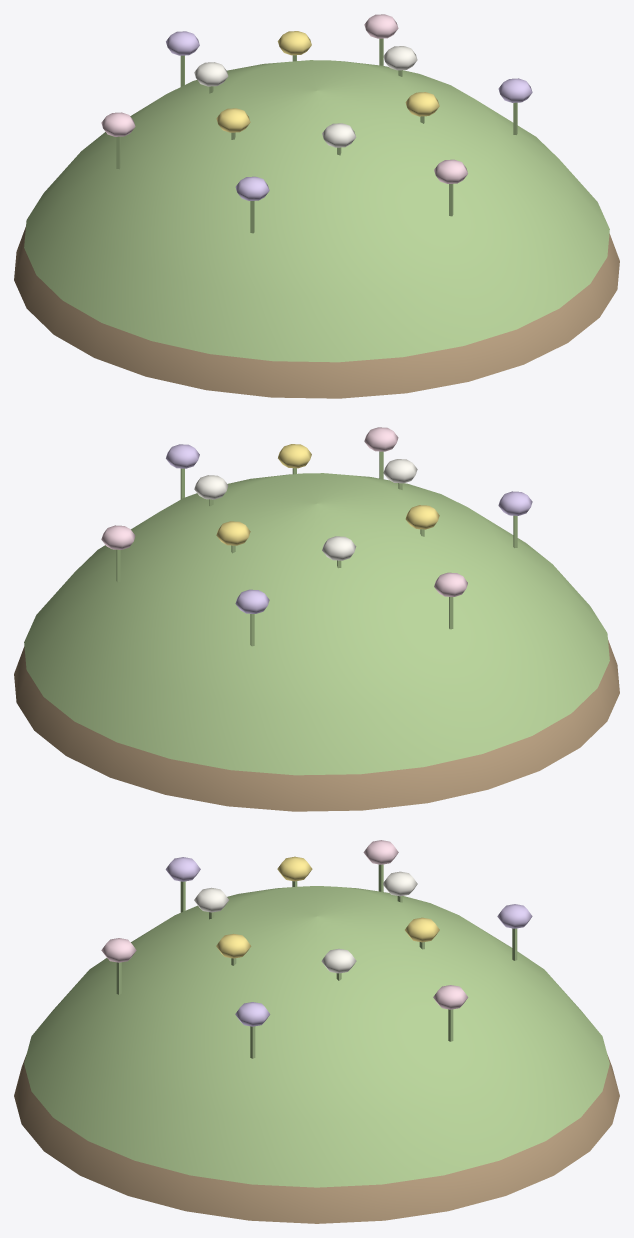
The model's file is gourd-prop-mound.glb.
3 renders of one model, top to bottom at view 1: azimuth 30°, elevation 25°; view 2: azimuth 150°, elevation 25°; view 3: azimuth 270°, elevation 25°, orthographic.
Visible parts, largest first — view 1: turf, mound.001, fl1, fl8, fl10, fl3, fl0, fl4, fl6, fl11, fl5, fl7 (+2 smaller); view 2: turf, mound.001, fl4, fl11, fl9, fl0, fl2, fl8, fl6, fl1, fl7, fl10 (+2 smaller); view 3: turf, mound.001, fl2, fl3, fl10, fl5, fl7, fl1, fl11, fl6, fl9, fl4 (+2 smaller).
Part boxes in pixels (x1,y1,x2,y2): turf: (24,60,609,362); mound.001: (14,227,619,398); fl1: (364,14,398,38); fl8: (322,123,356,147); fl10: (405,92,439,116); fl3: (166,31,199,55); fl0: (383,46,417,70); fl4: (194,62,228,86); fl6: (216,108,250,132); fl11: (498,78,532,102); fl5: (101,112,135,136); fl7: (235,176,269,200); turf: (24,473,609,775); mound.001: (14,640,619,811); fl4: (322,536,356,560); fl11: (166,444,199,468); fl9: (364,427,398,451); fl0: (194,475,228,499); fl2: (216,521,250,545); fl8: (383,459,417,483); fl6: (405,505,439,529); fl1: (101,525,135,549); fl7: (498,491,532,515); fl10: (278,444,311,468); turf: (24,886,609,1187); mound.001: (14,1055,619,1223); fl2: (405,917,439,942); fl3: (497,904,532,928); fl10: (216,933,251,958); fl5: (363,840,398,864); fl7: (165,857,200,881); fl1: (433,985,468,1009); fl11: (235,1002,270,1026); fl6: (277,856,312,881); fl9: (101,938,136,962); fl4: (383,871,417,896).
Bounding box in the file's own units: 0.12 × 0.0417 × 0.12.
